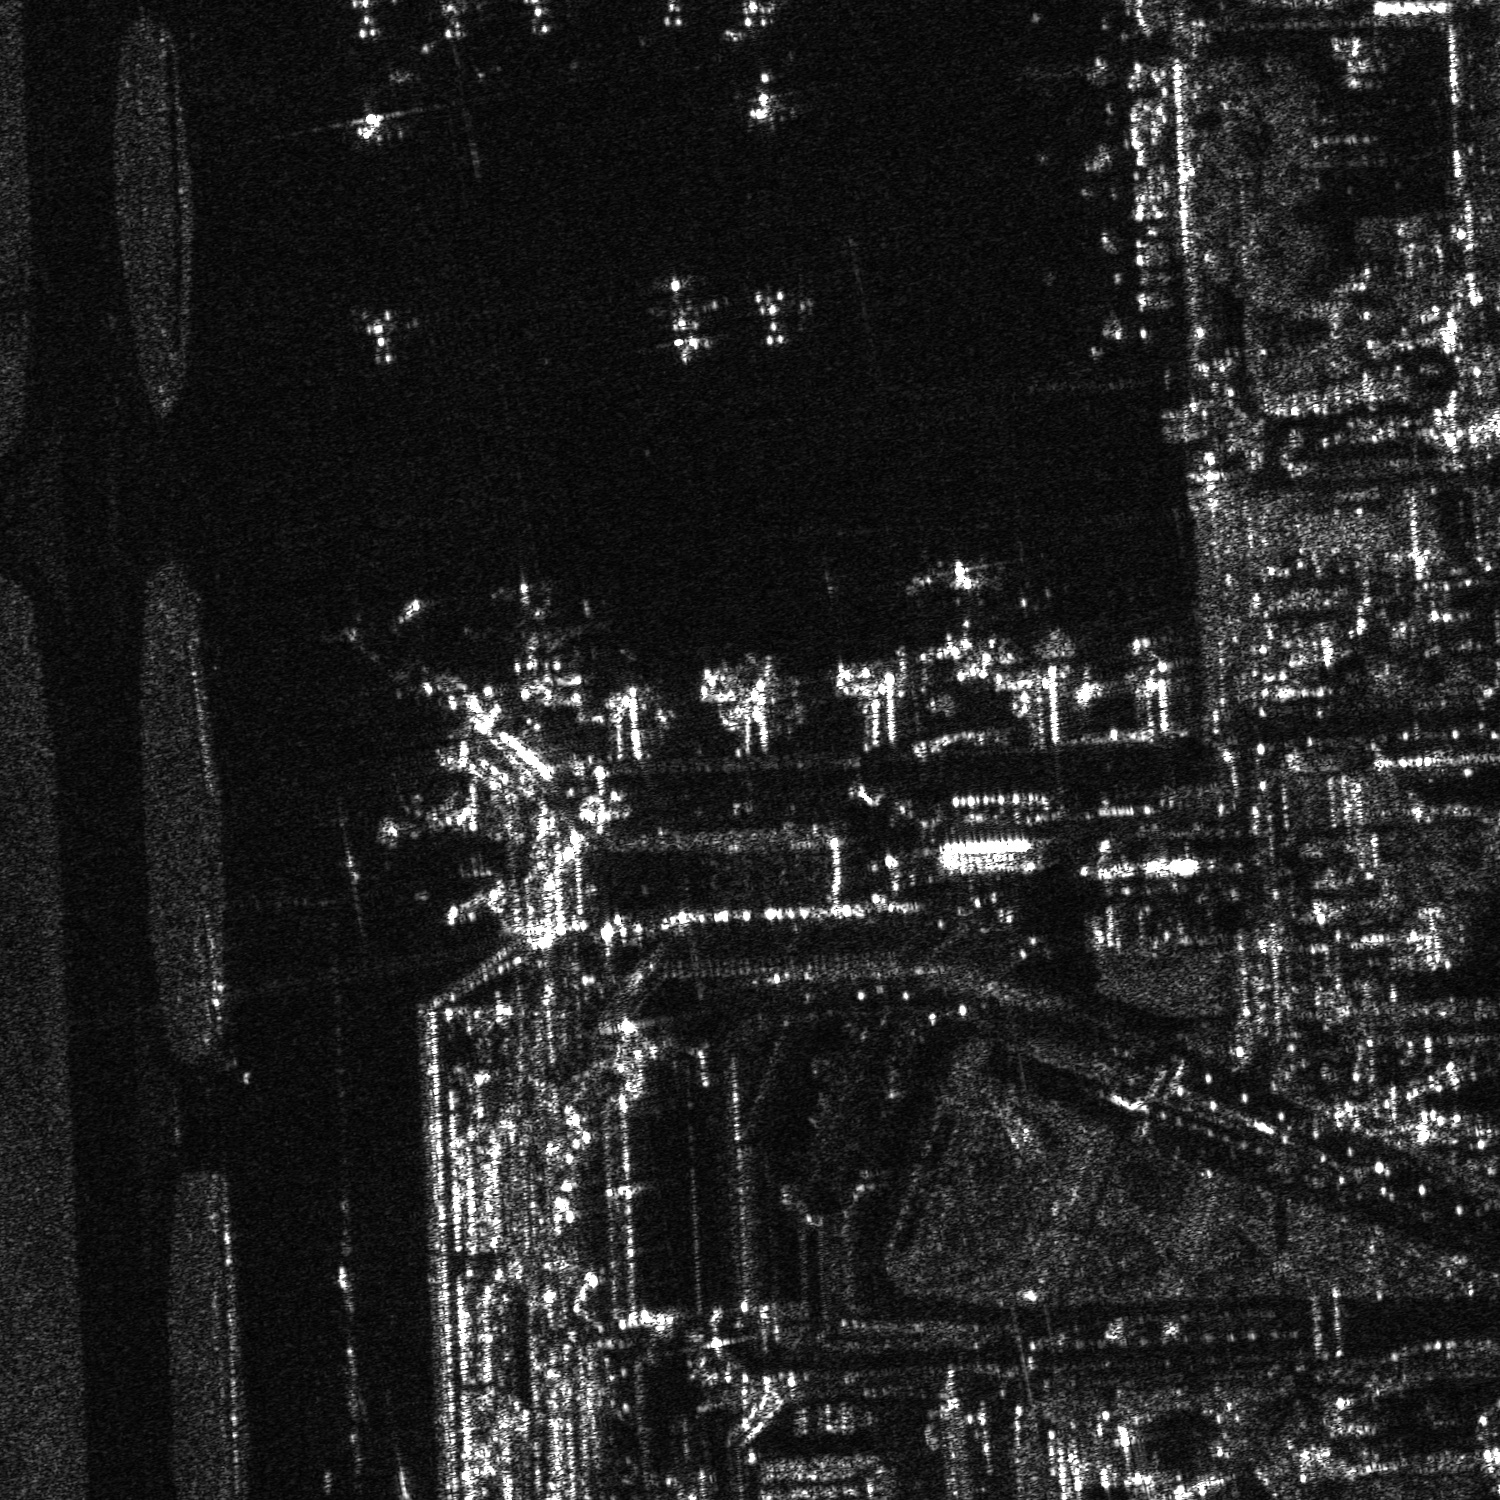A220: (742, 279, 802, 353)
ARJ21: (352, 298, 407, 374), (740, 65, 793, 136), (348, 98, 402, 144)
Boeing787: (913, 545, 996, 610)
other: (493, 571, 581, 707), (639, 266, 736, 368)
